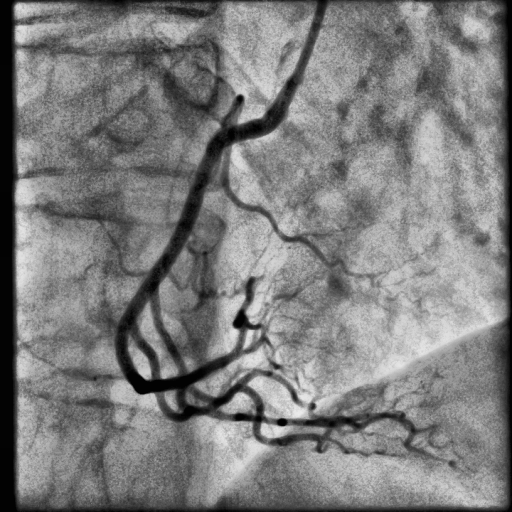rca: (115, 78, 302, 394)
